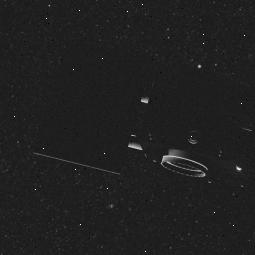proba_3_csc: (54, 81, 255, 192)
